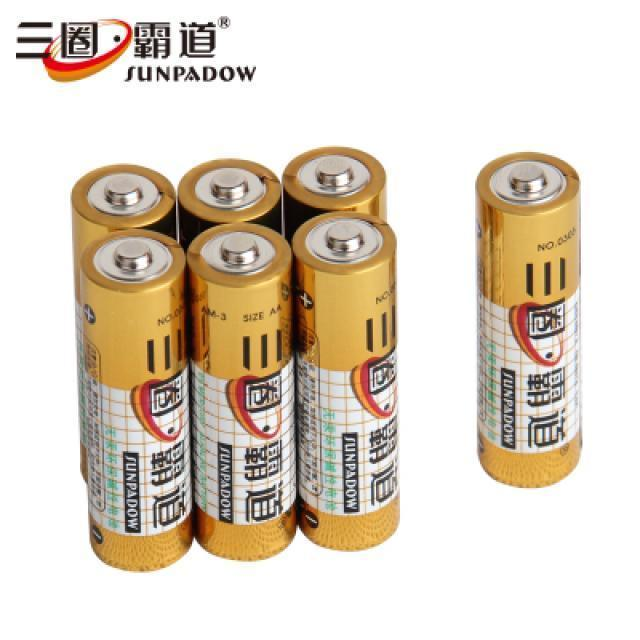Hazard: (80, 228, 191, 574), (186, 222, 297, 564), (291, 210, 400, 551), (474, 151, 584, 487), (71, 162, 177, 490), (281, 144, 387, 246), (177, 156, 283, 254)
